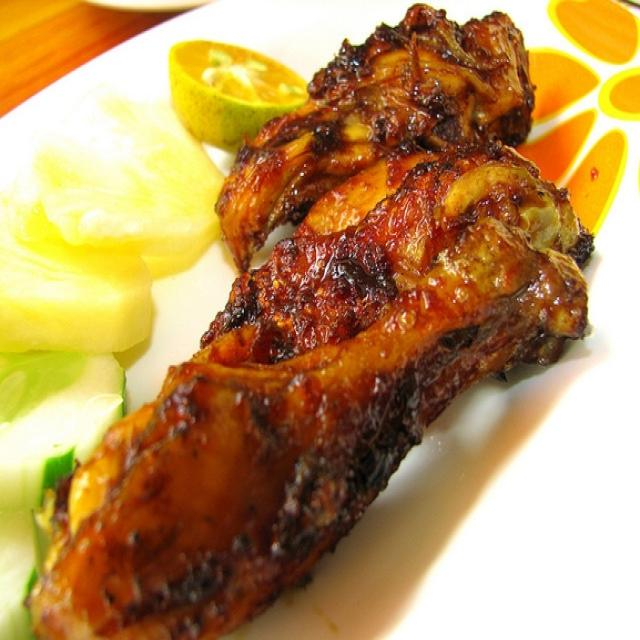鸡肉料理 含炸鸡: (25, 31, 609, 618)
